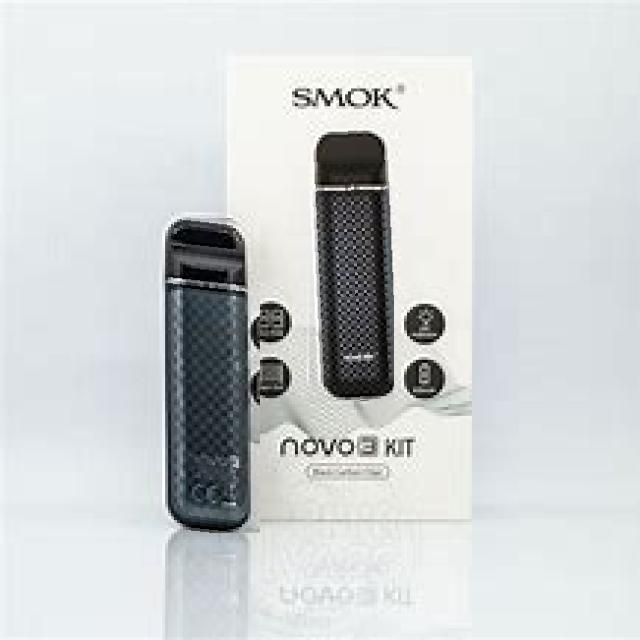Vapes: (168, 212, 260, 533), (297, 128, 394, 402)
